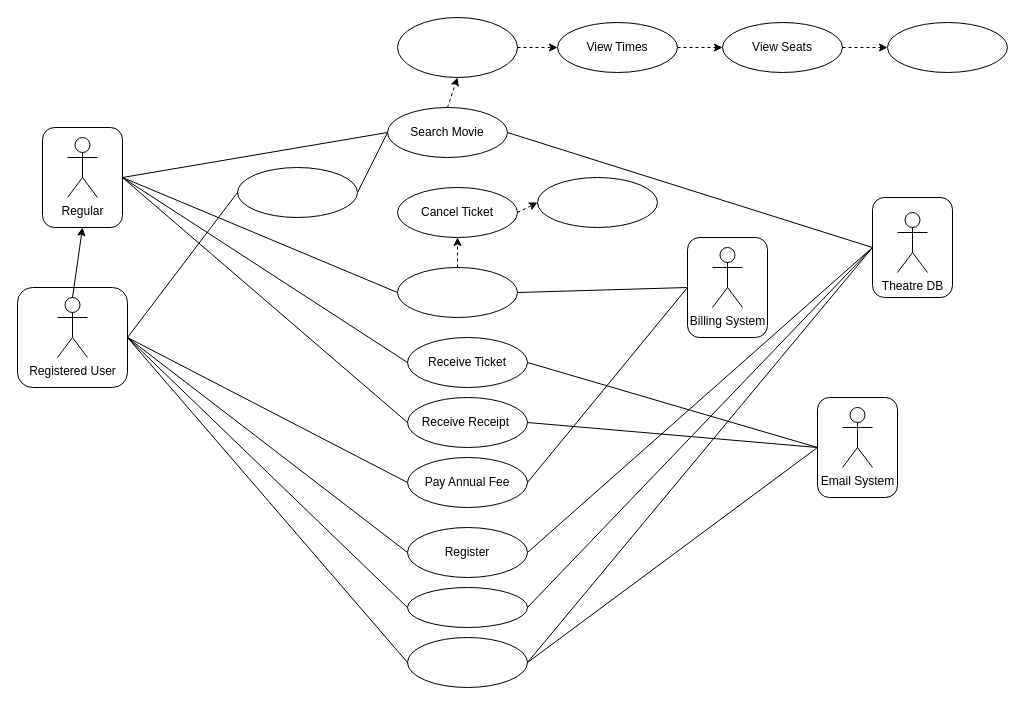
The diagram is 1025 pixels wide and 705 high, and some of its shapes have lost their labels. Here are the shapes that lost their labels. From the top down, the centre of each, then its label:
At (457,47): "Select theatre".
At (947,47): "Select Seats".
At (297,192): "Early Access".
At (597,202): "Refund Ticket".
At (457,292): "Pay for Ticket".
At (467,607): "Login".
At (467,662): "Receive News".
